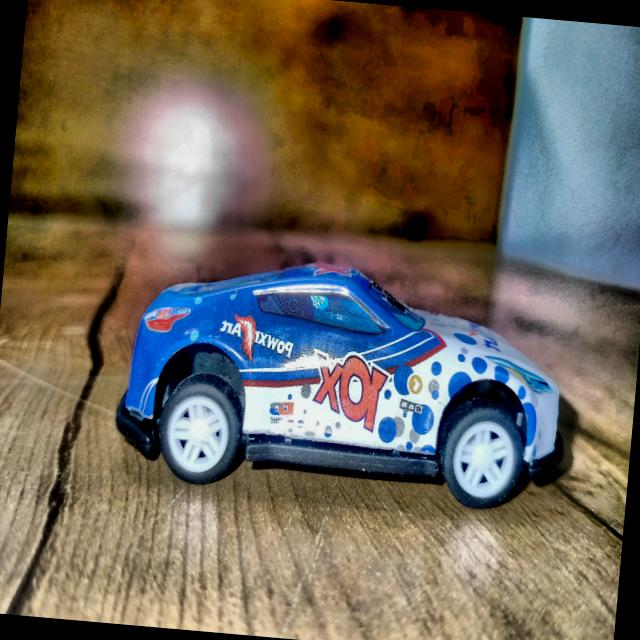Car: (111, 248, 576, 514)
